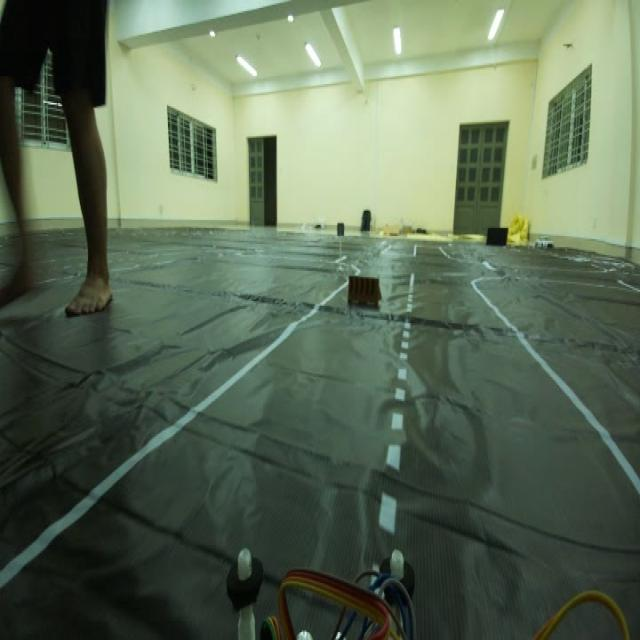roadblock: (340, 270, 389, 315)
